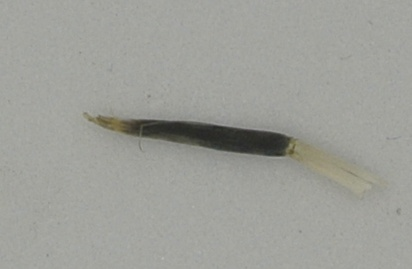เมล้ดปลายพู่กัน: (80, 109, 392, 200)
